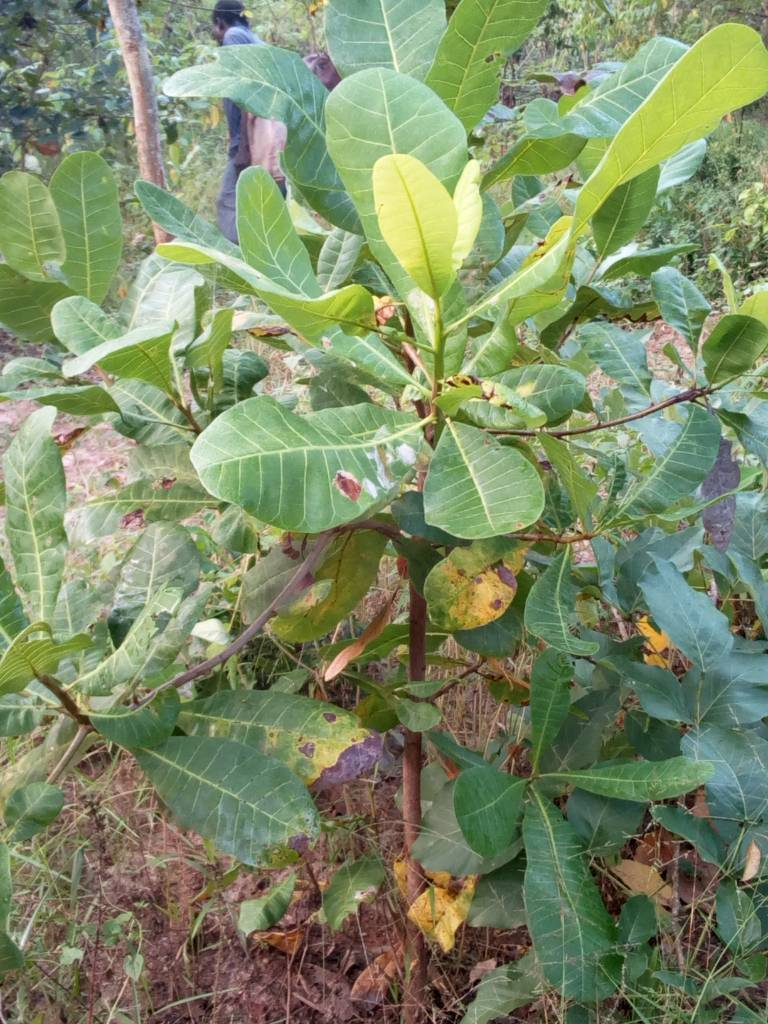Dysdercus wolkerii: (183, 397, 421, 539), (175, 683, 418, 791), (405, 522, 530, 636)
